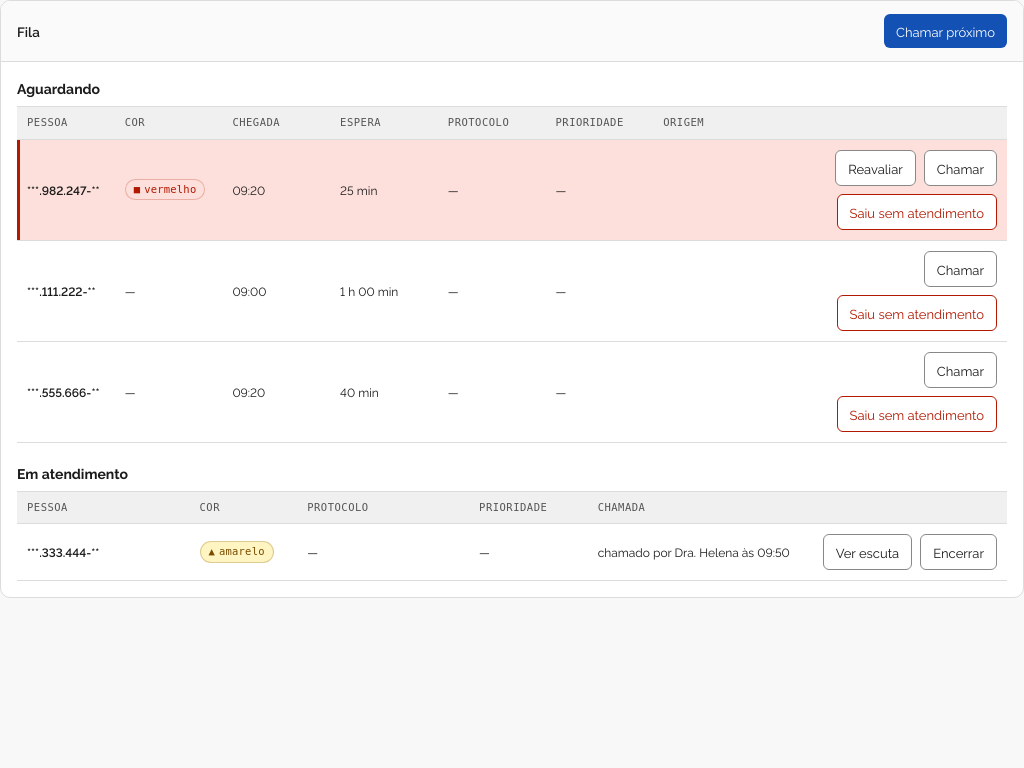
Scenario: UnitQueue — acolhimento (módulo 18) › Ver escuta lê pelo id (trilha de leitura) e mostra as revisões anteriores
Click the button "Ver escuta". click: (868,552)
box: [823,534,912,570]
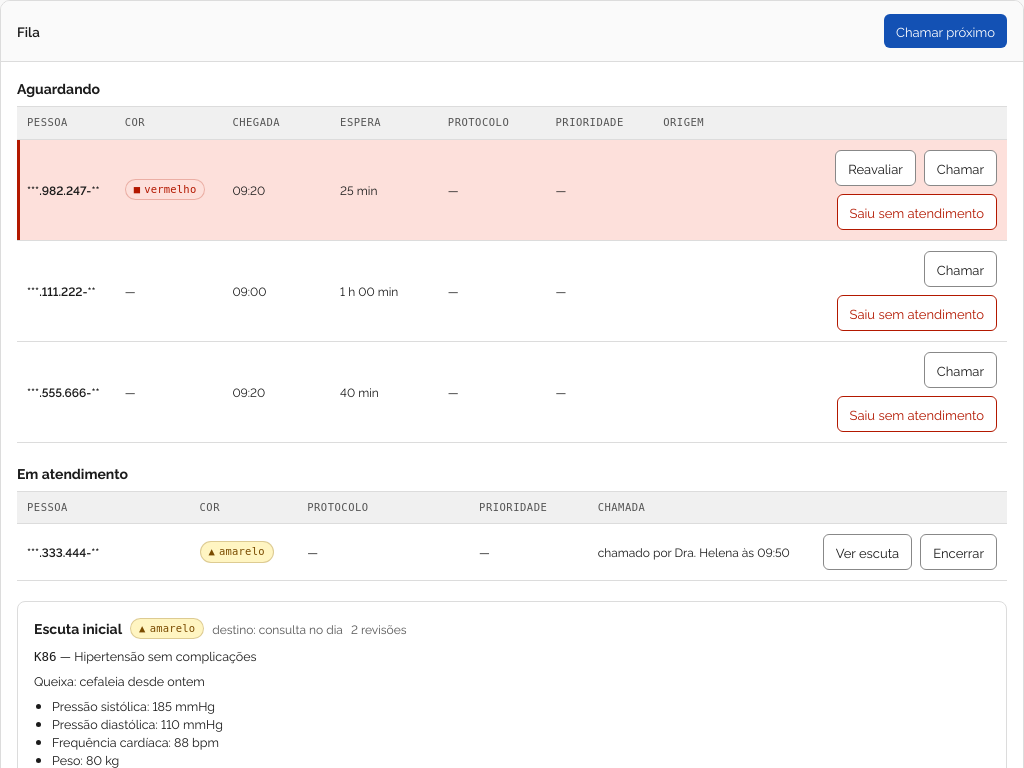
Now the text "2 revisões" is shown, box [351,620,407,637]
